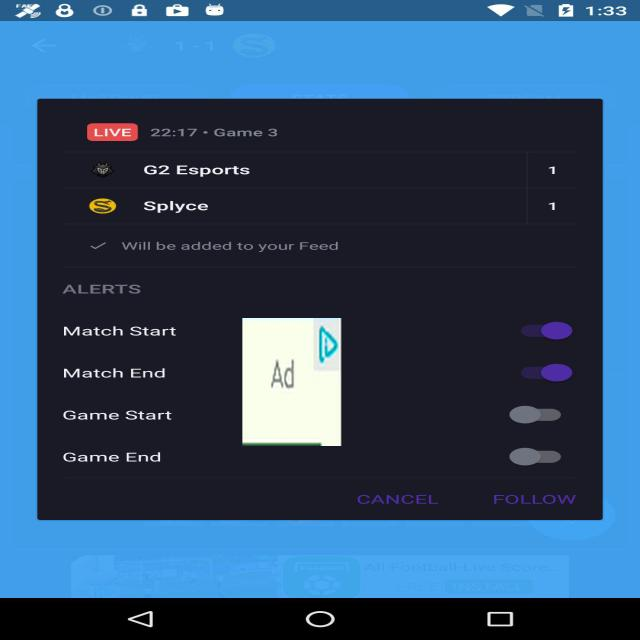sneaking: (242, 318, 342, 446)
